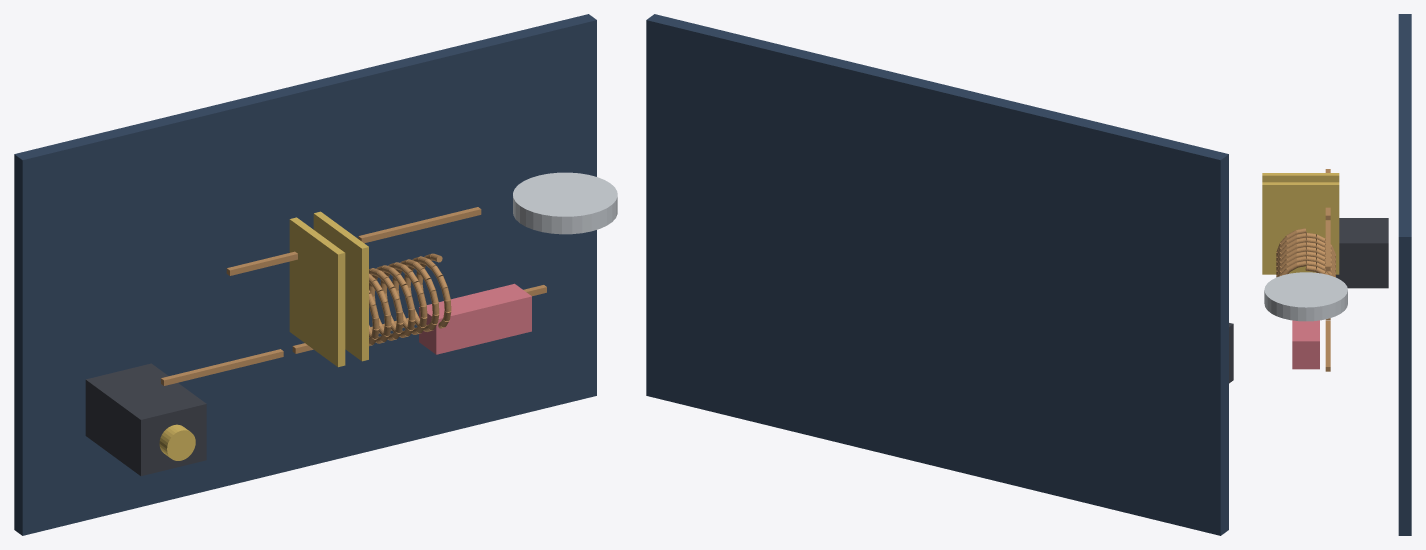
Rendered from electric-power.glb.
3 renders of one model, left to right at view 1: azimuth 30°, elevation 25°; view 2: azimuth 150°, elevation 25°; view 3: azimuth 270°, elevation 25°, orthographic. The views are drawn at different scales.
Parts seen in each view (by area): view 1: bench, battery_body, capacitor_plate_a, meter_dial, resistor, capacitor_plate_b, wire_0, wire_3, battery_positive; view 2: bench; view 3: bench, capacitor_plate_b, meter_dial, battery_body, resistor, capacitor_plate_a, wire_3, wire_4.
Part boxes in pixels (box(x1,y1,x2,y2)): bench: box(14, 14, 596, 535); battery_body: box(85, 363, 206, 476); capacitor_plate_a: box(289, 217, 345, 367); meter_dial: box(513, 172, 617, 234); resistor: box(419, 283, 531, 354); capacitor_plate_b: box(313, 211, 368, 361); wire_0: box(161, 349, 283, 385); wire_3: box(358, 207, 481, 243); battery_positive: box(159, 424, 195, 460); bench: box(646, 14, 1228, 535); bench: box(1398, 14, 1411, 535); capacitor_plate_b: box(1262, 182, 1339, 274); meter_dial: box(1264, 272, 1347, 321); battery_body: box(1336, 218, 1388, 288); resistor: box(1292, 320, 1319, 369); capacitor_plate_a: box(1262, 173, 1339, 182); wire_3: box(1325, 220, 1330, 271); wire_4: box(1325, 320, 1330, 371).
Size of the model in its own units: 4.8 by 3 by 1.36.
